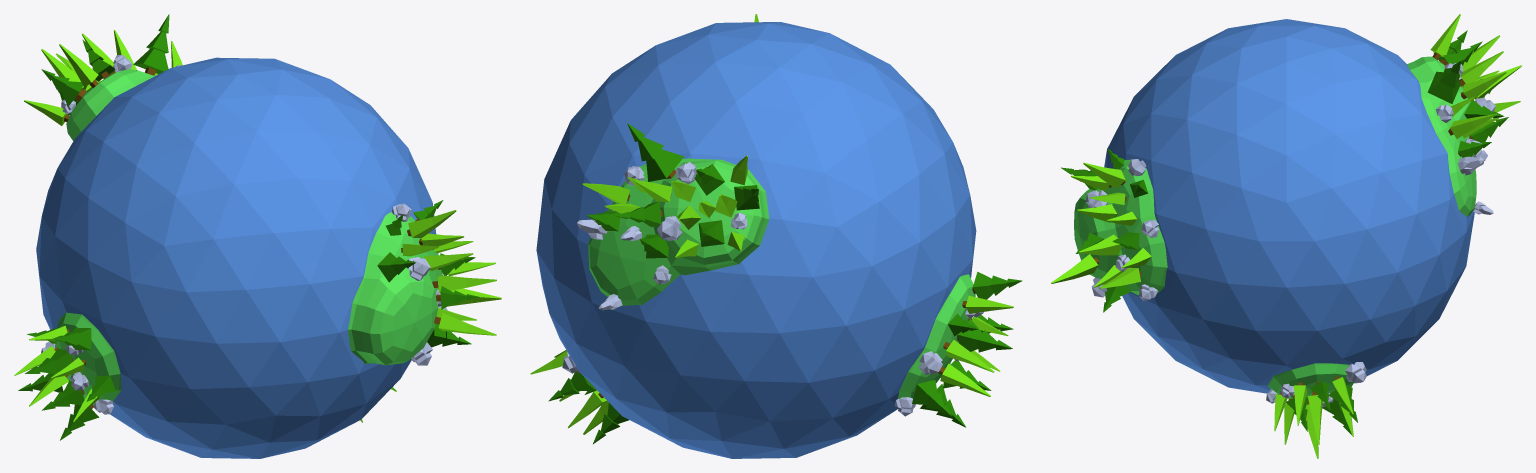
The model's file is Planet.glb.
3 renders of one model, left to right at view 1: azimuth 30°, elevation 25°; view 2: azimuth 150°, elevation 25°; view 3: azimuth 270°, elevation 25°, orthographic. The views are drawn at different scales.
Parts seen in each view (by area): view 1: Water, Terrain, PineTree.002, Tree1.031, PineTree.006, PineTree.013, Tree1.030, Tree1.023, Tree1.008, PineTree.017, PineTree.014, PineTree.021 (+3 smaller); view 2: Water, Terrain, PineTree.002, PineTree.013, PineTree.015, PineTree.017, PineTree.003, Tree1.020, PineTree.005, Tree1.019, PineTree.006, PineTree.007 (+6 smaller); view 3: Water, Terrain, PineTree.002, Tree1.031, Tree1.012, Tree1.030, Tree1.009, Tree1.023, Tree1.008, Tree1.002.
Part boxes in pixels (left/top/right/bottom): Water: left=36, top=57, right=438, bottom=458; Terrain: left=55, top=69, right=442, bottom=404; PineTree.002: left=133, top=14, right=169, bottom=75; Tree1.031: left=434, top=313, right=496, bottom=335; PineTree.006: left=41, top=69, right=83, bottom=106; PineTree.013: left=25, top=348, right=74, bottom=375; Tree1.030: left=432, top=275, right=496, bottom=292; Tree1.023: left=407, top=210, right=456, bottom=238; Tree1.008: left=59, top=44, right=98, bottom=87; PineTree.017: left=53, top=328, right=91, bottom=350; PineTree.014: left=42, top=380, right=84, bottom=410; PineTree.021: left=377, top=252, right=415, bottom=282; Water: left=536, top=22, right=976, bottom=458; Terrain: left=588, top=158, right=975, bottom=398; PineTree.002: left=627, top=123, right=683, bottom=181; PineTree.013: left=957, top=319, right=1012, bottom=352; PineTree.015: left=912, top=380, right=951, bottom=416; PineTree.017: left=972, top=271, right=1022, bottom=299; PineTree.003: left=614, top=201, right=662, bottom=226; Tree1.020: left=938, top=363, right=990, bottom=396; PineTree.005: left=698, top=220, right=724, bottom=246; Tree1.019: left=943, top=339, right=994, bottom=372; PineTree.006: left=734, top=185, right=759, bottom=210; PineTree.007: left=694, top=164, right=724, bottom=195; Water: left=1104, top=19, right=1474, bottom=393; Terrain: left=1074, top=56, right=1476, bottom=398; PineTree.002: left=1427, top=61, right=1460, bottom=103; Tree1.031: left=1051, top=254, right=1099, bottom=283; Tree1.012: left=1448, top=113, right=1496, bottom=138; Tree1.030: left=1078, top=234, right=1122, bottom=255; Tree1.009: left=1461, top=71, right=1506, bottom=101; Tree1.023: left=1083, top=162, right=1125, bottom=188; Tree1.008: left=1430, top=14, right=1460, bottom=60; Tree1.002: left=1459, top=51, right=1503, bottom=86.
Bounding box in the file's own units: 4.78 × 4.35 × 5.18.
